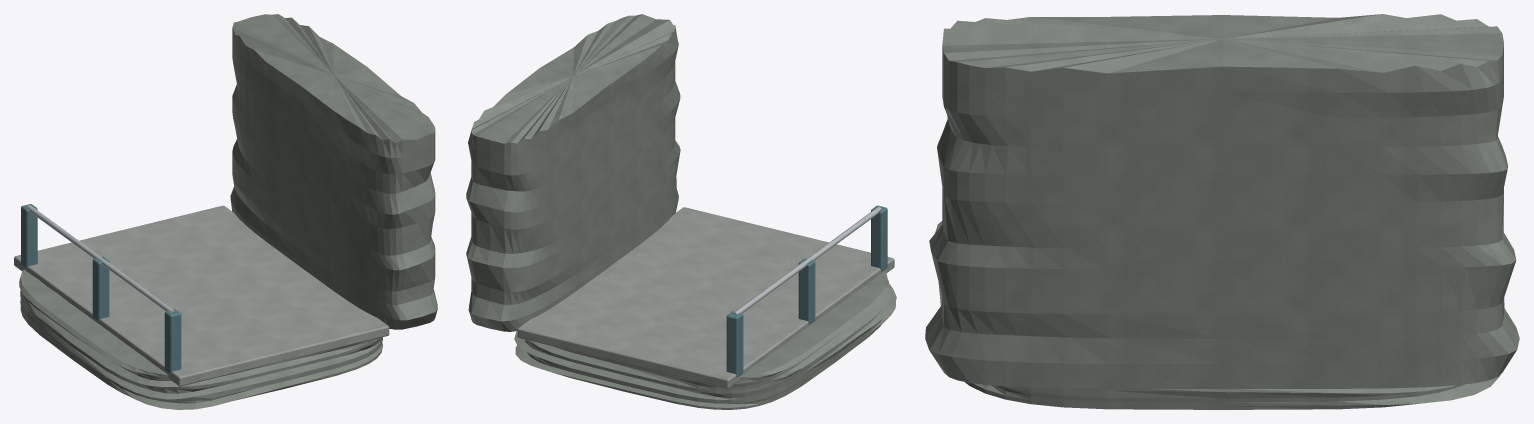
The model's file is gorgehold-survivor-gallery-and-operations-rock-cut-mai-7f28abf1__32872.glb.
3 views of the same model, side by side, from view 1: azimuth 30°, elevation 25°; view 2: azimuth 150°, elevation 25°; view 3: azimuth 270°, elevation 25° (orthographic). The views are drawn at different scales.
Parts seen in each view (by area): view 1: rock-cut-maintenance-trail; view 2: rock-cut-maintenance-trail; view 3: rock-cut-maintenance-trail.
Boxes of the visible parts, x1,y1,x2,y2 form: rock-cut-maintenance-trail: (14, 14, 437, 409); rock-cut-maintenance-trail: (466, 14, 896, 409); rock-cut-maintenance-trail: (925, 14, 1519, 409).
Bounding box in the file's own units: 3.13 × 2.2 × 3.18.
4 materials, 4 textured.
